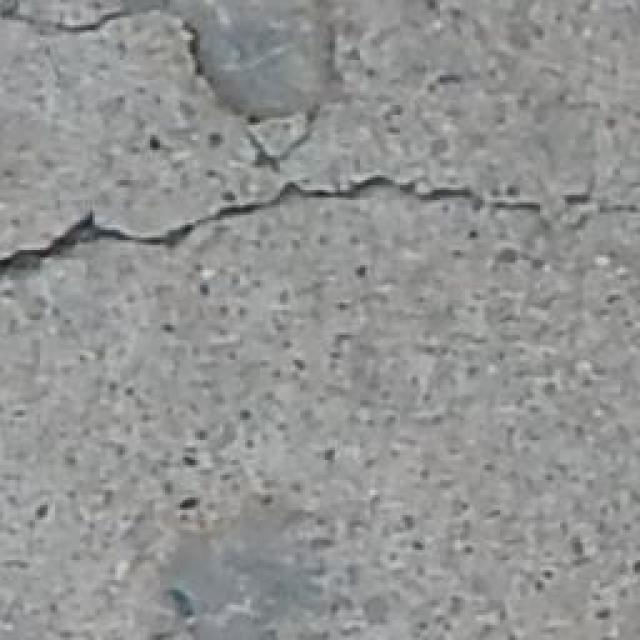concrete-crack: (0, 165, 612, 283), (2, 0, 352, 174)
